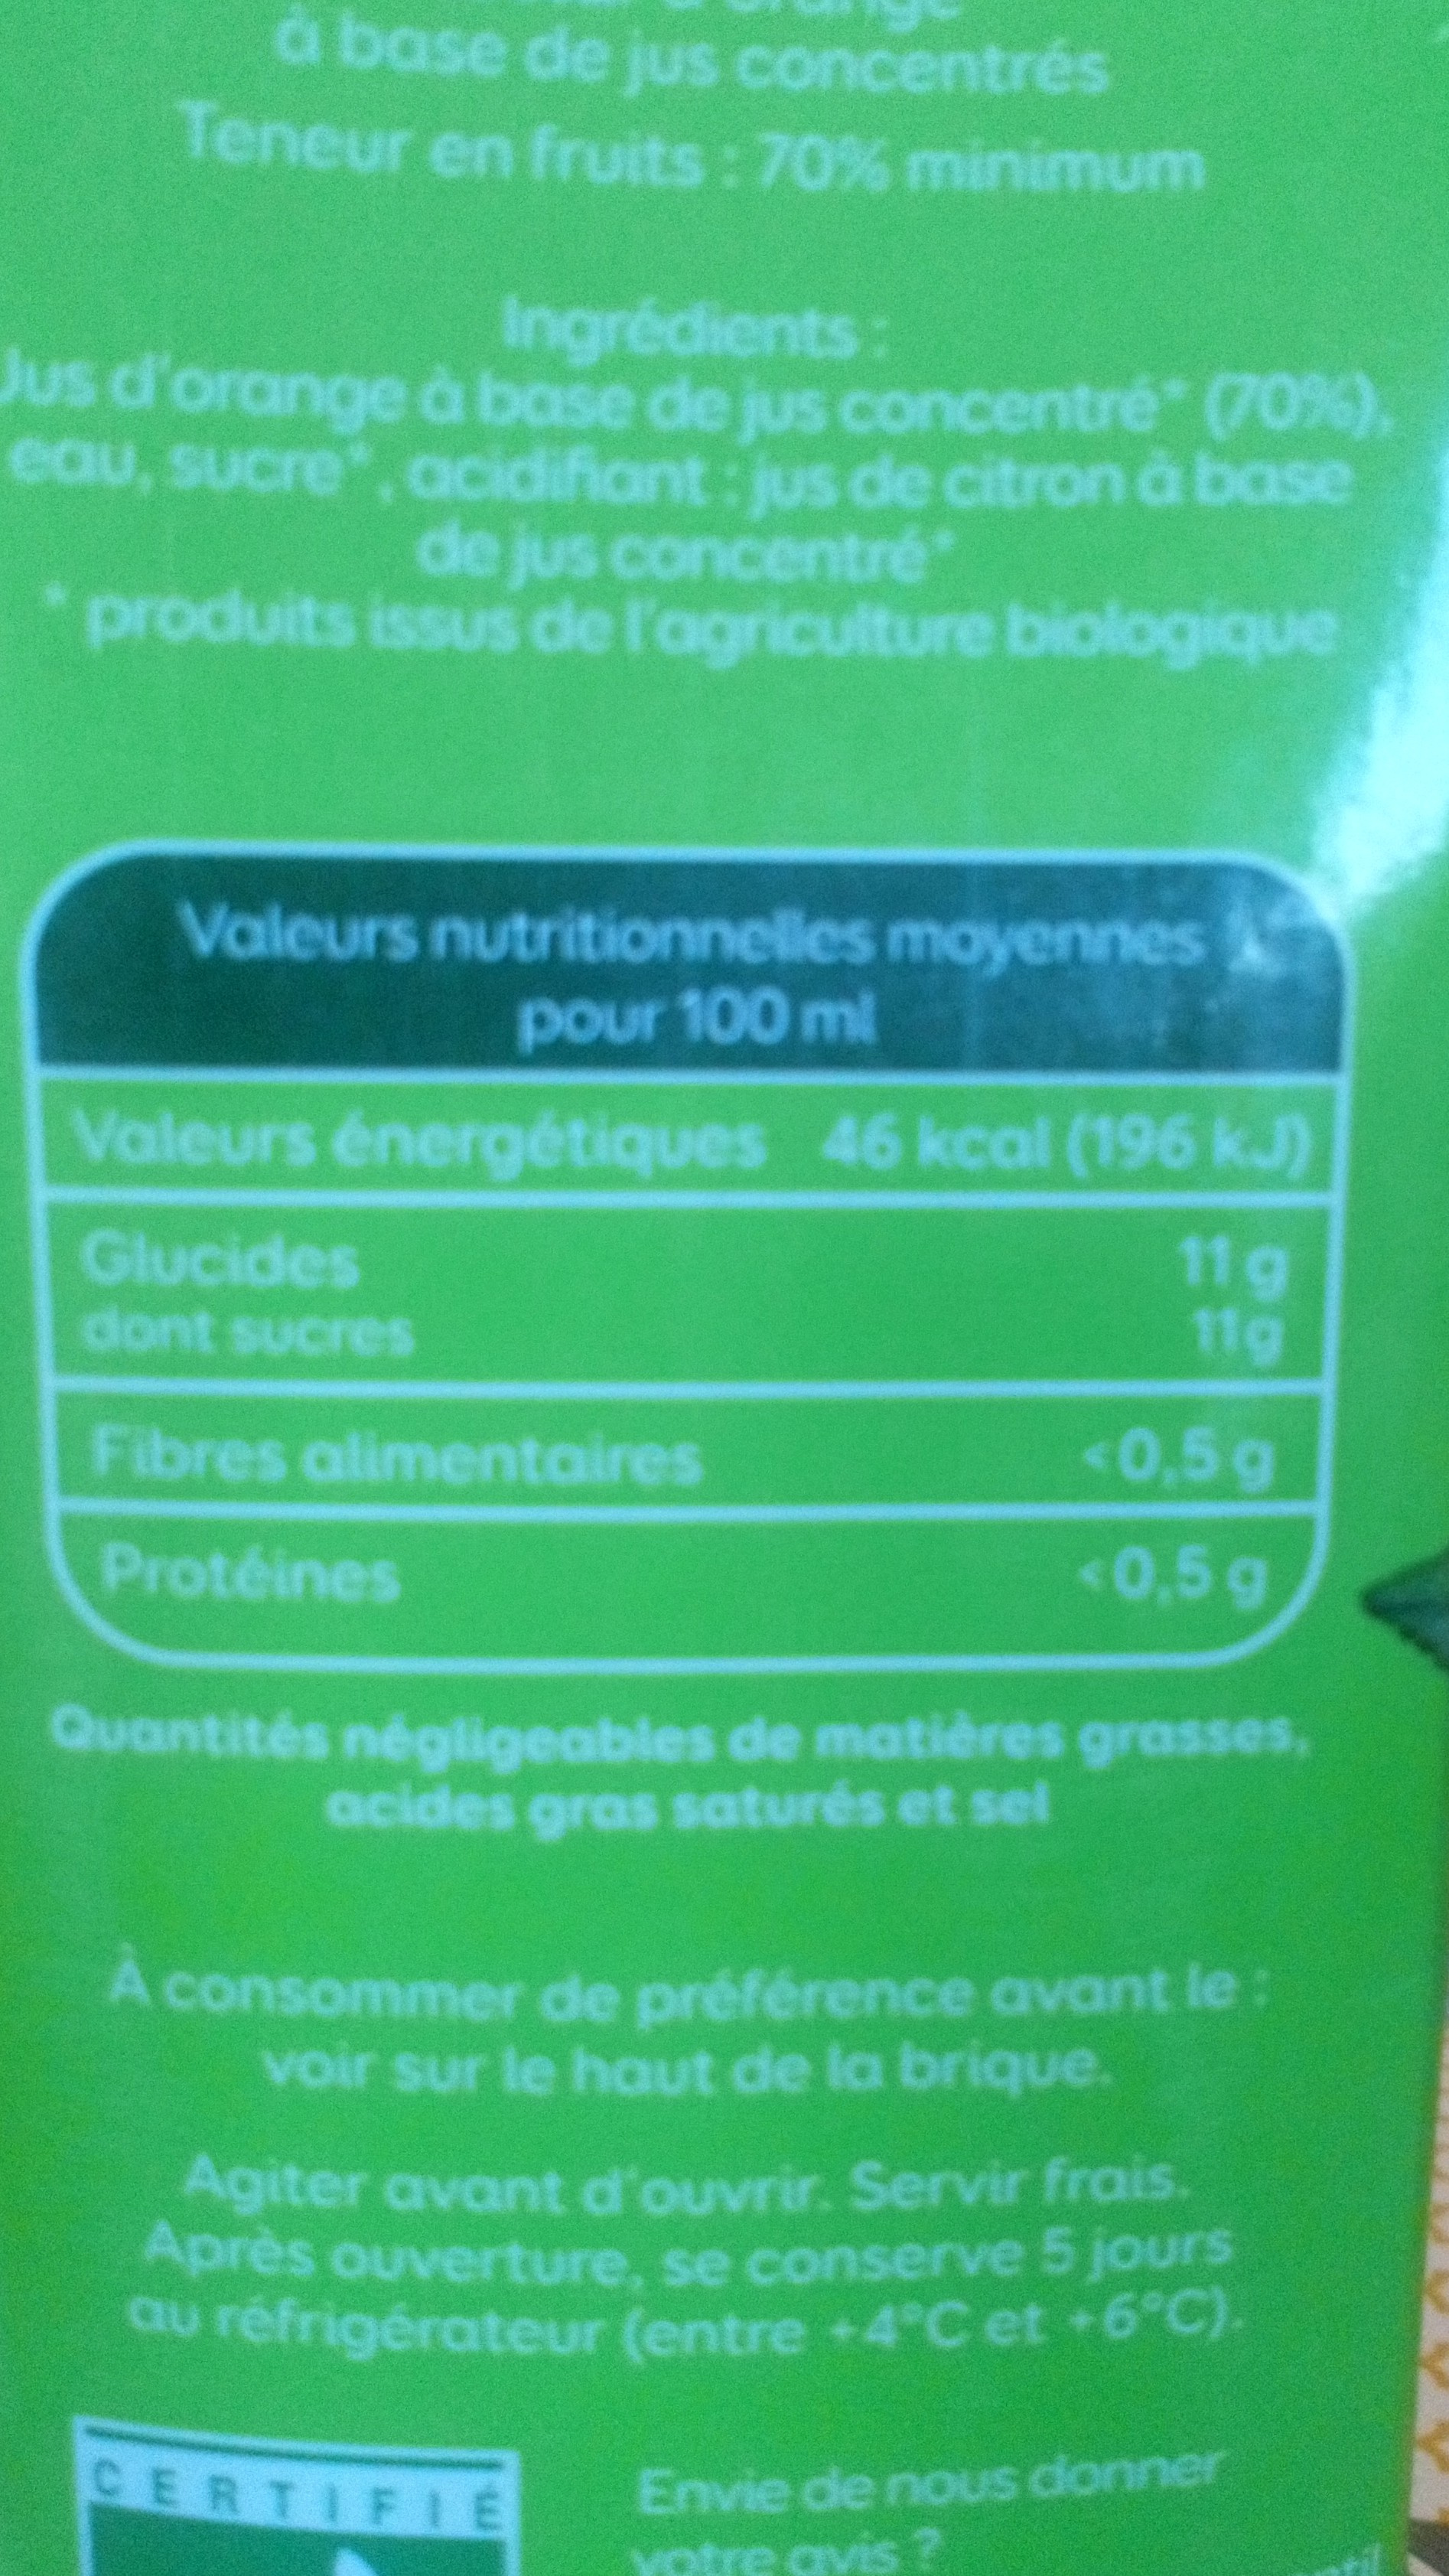column: (67, 1093, 771, 1614), (817, 1108, 1316, 1622)
table: (25, 835, 1355, 1675)
